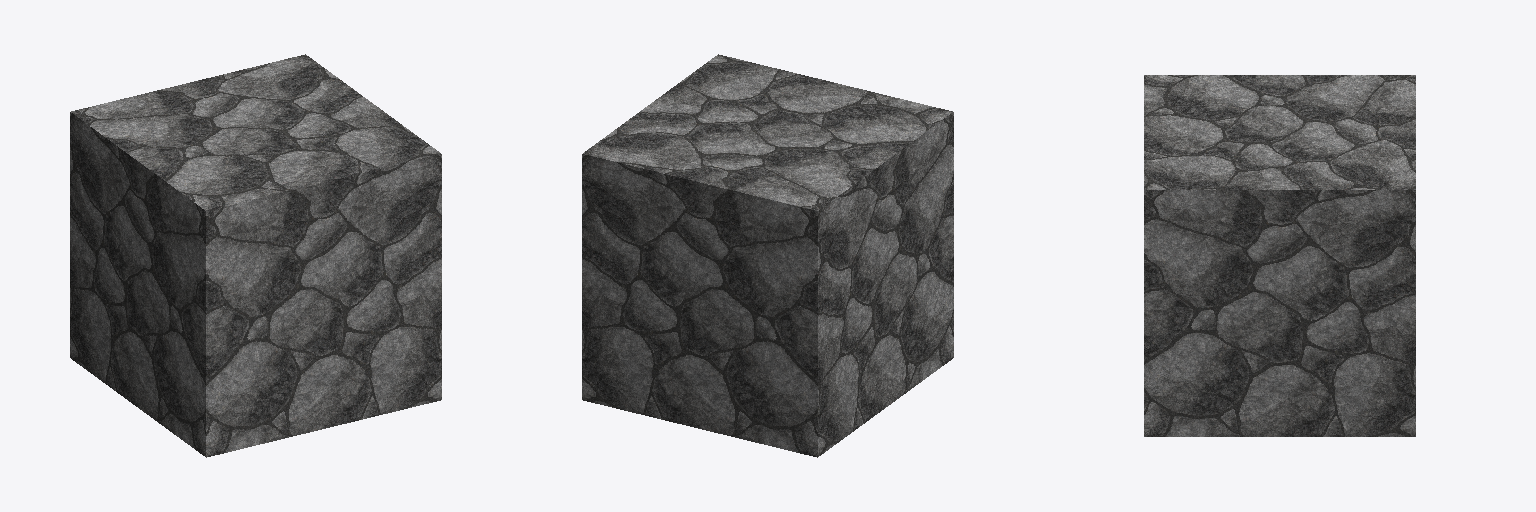
3 renders of one model, left to right at view 1: azimuth 30°, elevation 25°; view 2: azimuth 150°, elevation 25°; view 3: azimuth 270°, elevation 25°, orthographic.
Parts seen in each view (by area): view 1: Cube; view 2: Cube; view 3: Cube.
Boxes of the visible parts, box(x1,y1,x2,y2) form: Cube: box(70, 54, 441, 457); Cube: box(582, 54, 953, 457); Cube: box(1144, 75, 1415, 436).
Bounding box in the file's own units: 2 × 2 × 2.
1 materials, 1 textured.